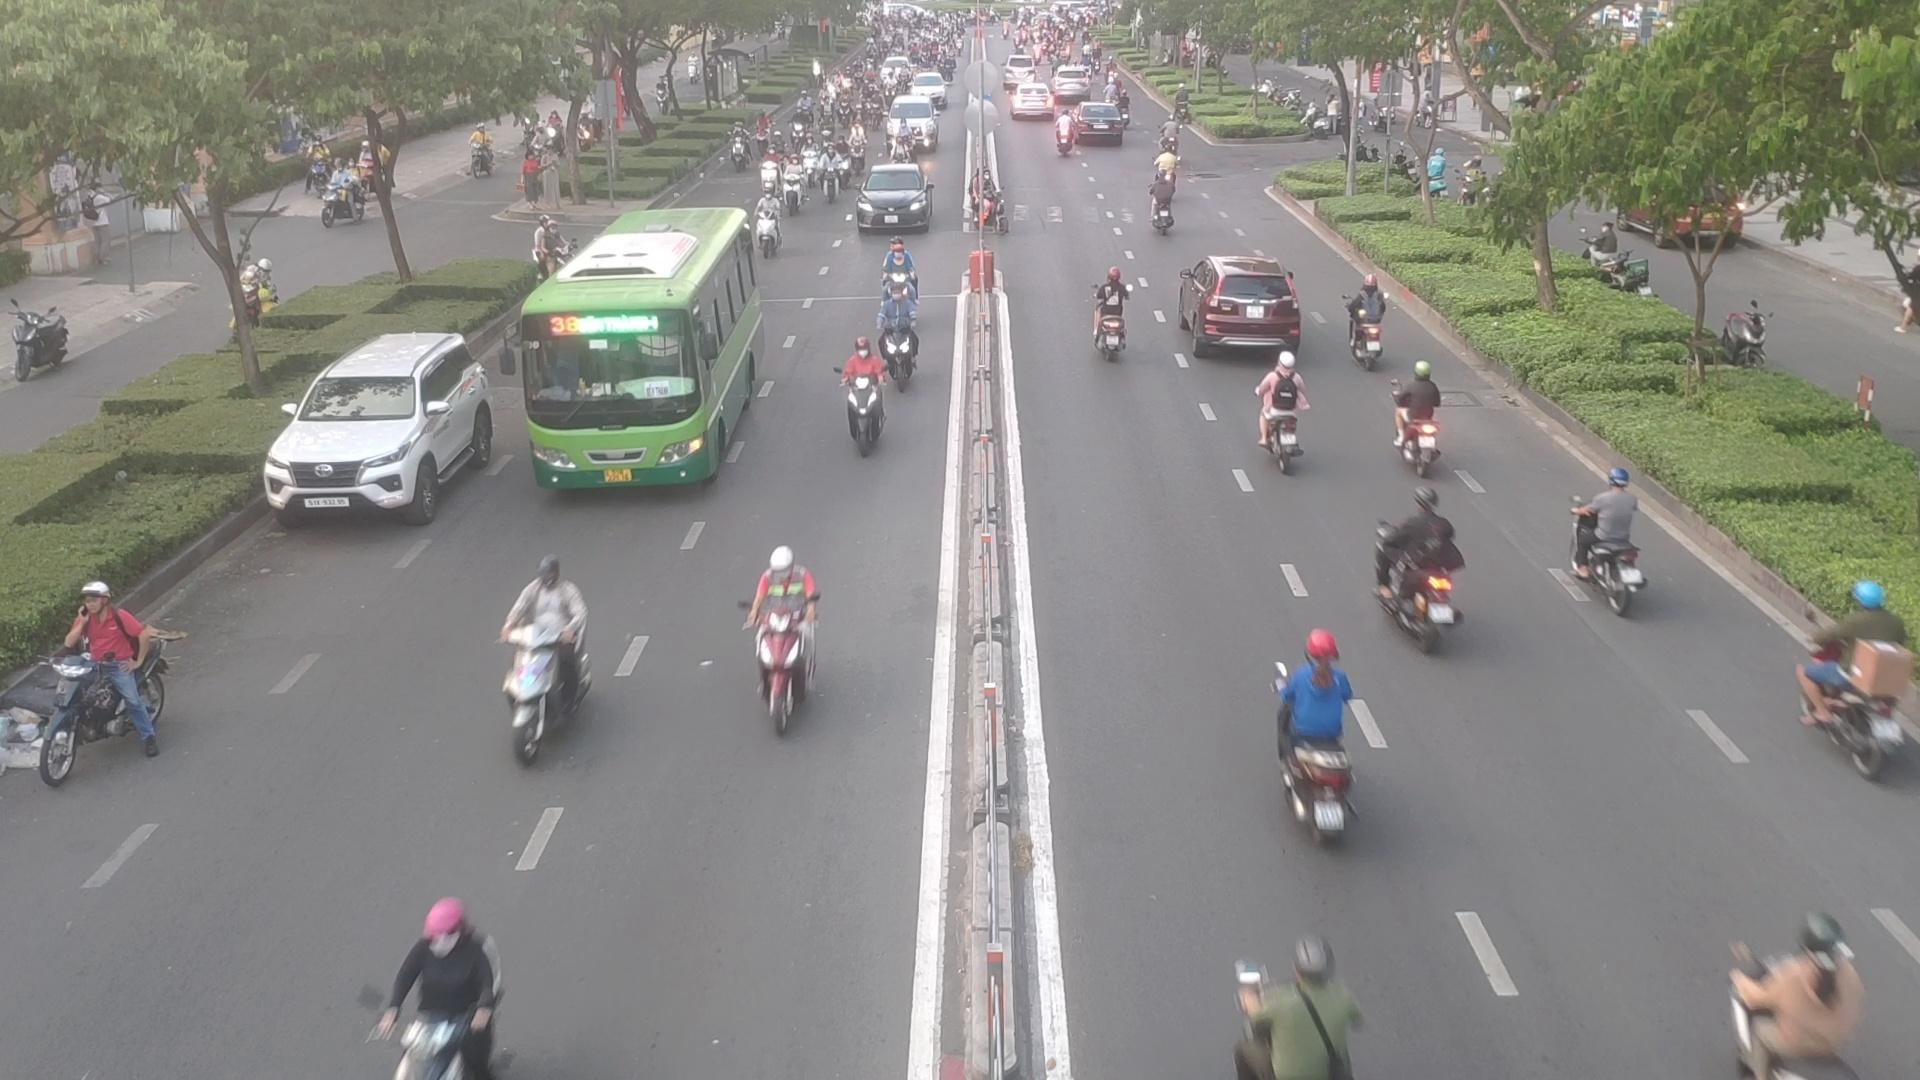bus: (510, 211, 770, 495)
car: (265, 331, 513, 526), (1175, 253, 1308, 357), (855, 164, 940, 236)
motorbike: (20, 584, 170, 775), (1714, 905, 1871, 1076), (1789, 595, 1920, 786), (1232, 916, 1366, 1080), (371, 909, 498, 1080), (1265, 655, 1383, 840), (497, 570, 608, 754), (744, 553, 844, 735), (1381, 502, 1474, 649), (1575, 477, 1665, 617), (1251, 360, 1317, 472), (833, 334, 890, 455), (1386, 363, 1449, 469), (1342, 285, 1395, 375), (1083, 269, 1133, 360), (881, 280, 920, 382), (1145, 160, 1178, 239), (1052, 116, 1081, 156)
